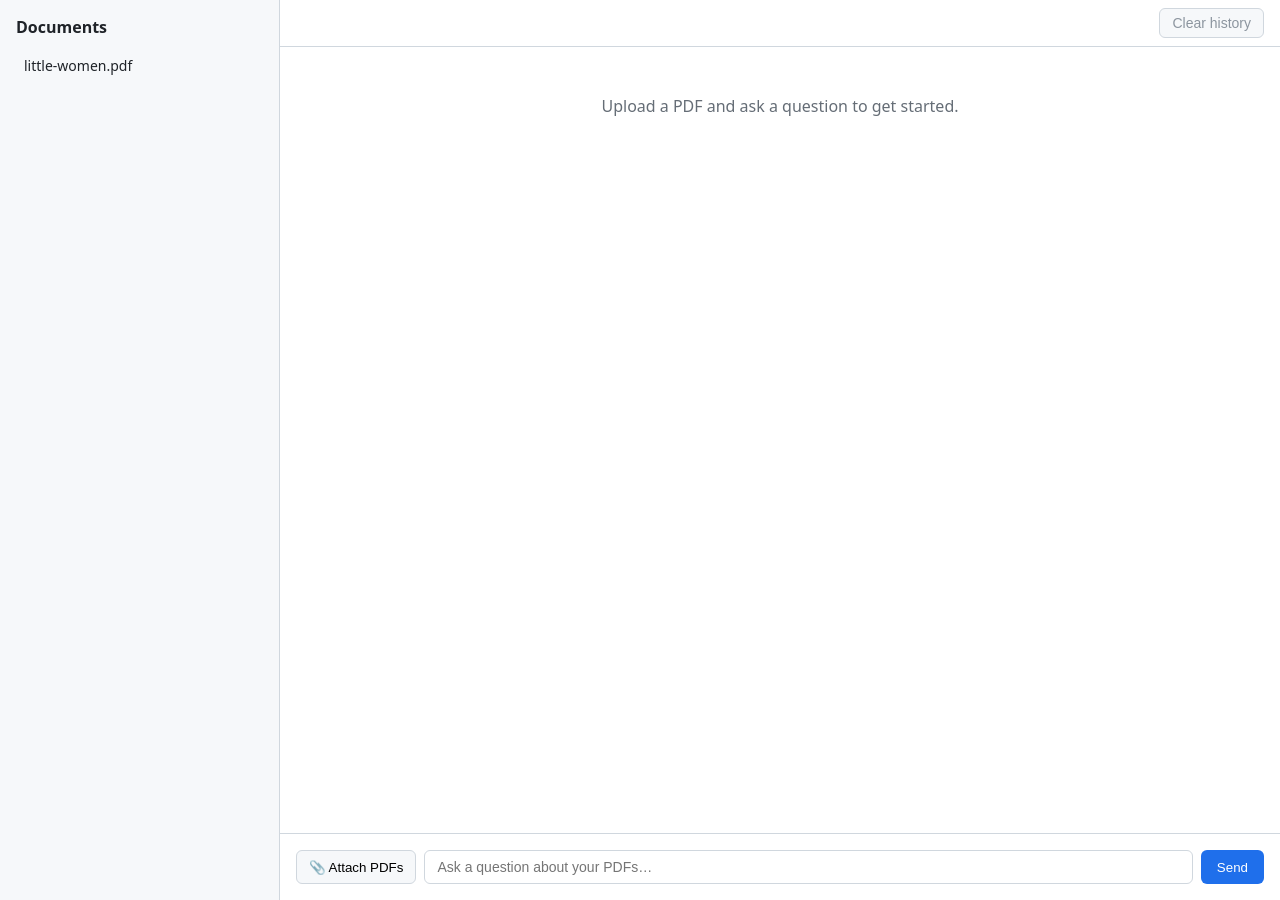
Test case: Chat Q&A view › sends a question and shows the answer in the chat window
Expected: the list item "little-women.pdf" is shown, x1=24 y1=56 x2=132 y2=75
Type "Where does Jo first appear?" into the field labelled "question" at (809, 867), box x1=424 y1=850 x2=1193 y2=884
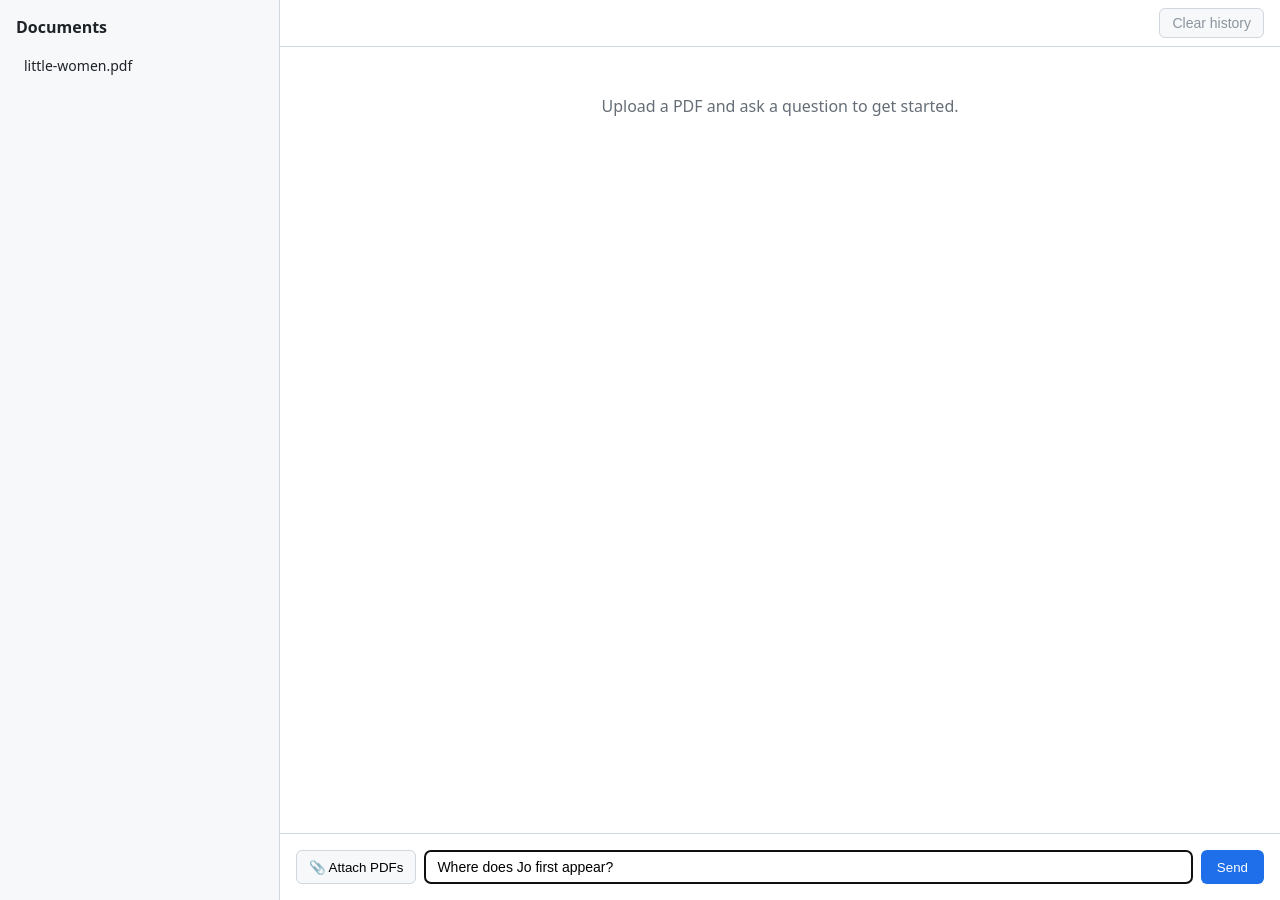
Click the button "Send" at (1232, 867), box x1=1201 y1=850 x2=1264 y2=884
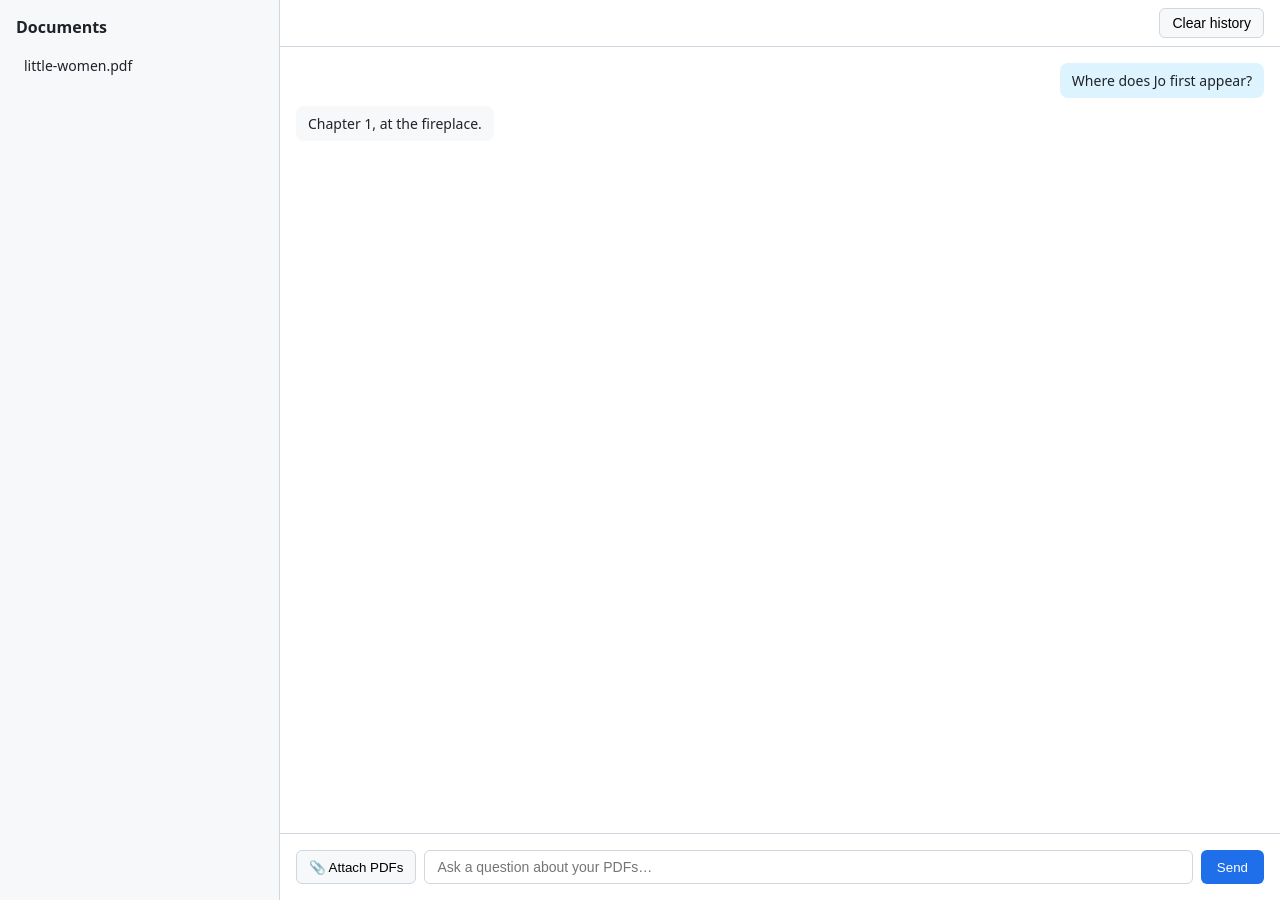
Expected: the list item "Chapter 1, at the fireplace." is shown, x1=296 y1=106 x2=494 y2=141
Expected: the list item "Where does Jo first appear?" is shown, x1=1060 y1=63 x2=1264 y2=98
Expected: the field labelled "question" is empty, x1=424 y1=850 x2=1193 y2=884
